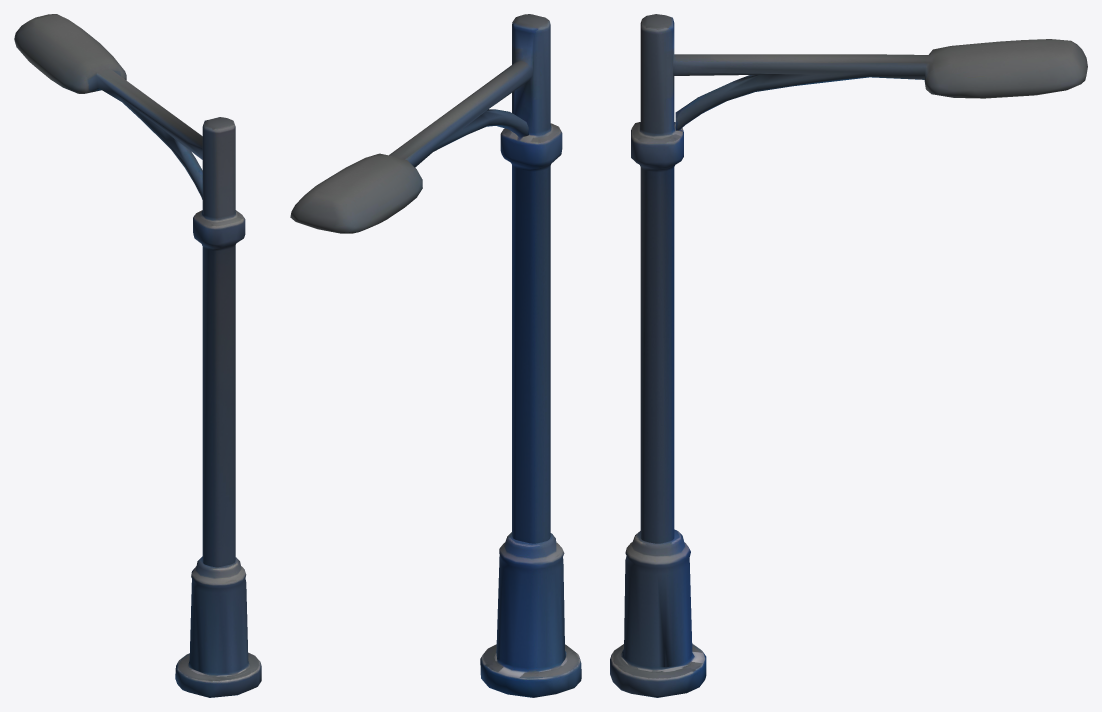
Rendered from cityLampPost.glb.
3 views of the same model, side by side, from view 1: azimuth 30°, elevation 25°; view 2: azimuth 150°, elevation 25°; view 3: azimuth 270°, elevation 25° (orthographic). The views are drawn at different scales.
Parts seen in each view (by area): view 1: tripo_node_03597b8a; view 2: tripo_node_03597b8a; view 3: tripo_node_03597b8a.
Part boxes in pixels (left/top/right/bottom): tripo_node_03597b8a: left=14, top=14, right=261, bottom=697; tripo_node_03597b8a: left=290, top=14, right=581, bottom=697; tripo_node_03597b8a: left=610, top=14, right=1087, bottom=697.
Bounding box in the file's own units: 0.1335 × 0.9491 × 0.6254.
1 material, 1 textured.
